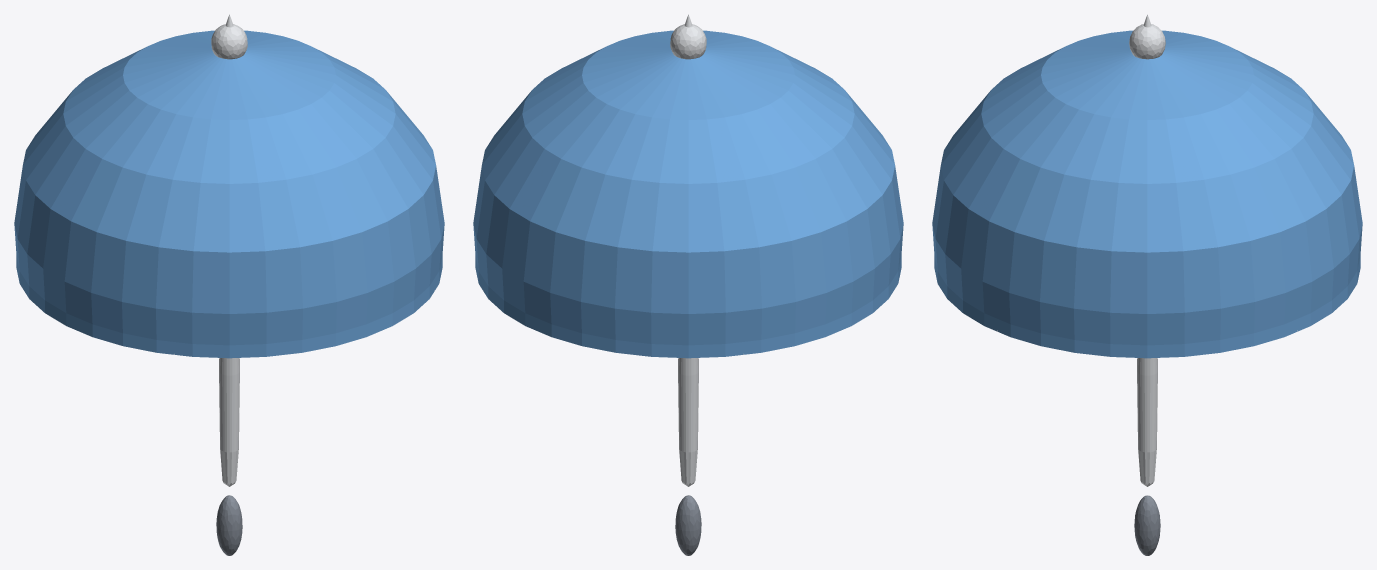
Rendered from umbrella.glb.
3 views of the same model, side by side, from view 1: azimuth 30°, elevation 25°; view 2: azimuth 150°, elevation 25°; view 3: azimuth 270°, elevation 25° (orthographic).
Visible parts, largest first — view 1: GuardaChuva; view 2: GuardaChuva; view 3: GuardaChuva.
Part boxes in pixels (box(x1,y1,x2,y2)): GuardaChuva: box(14, 14, 444, 555); GuardaChuva: box(473, 14, 903, 555); GuardaChuva: box(932, 14, 1362, 555).
Size of the model in its own units: 0.606 by 0.8415 by 0.606.
